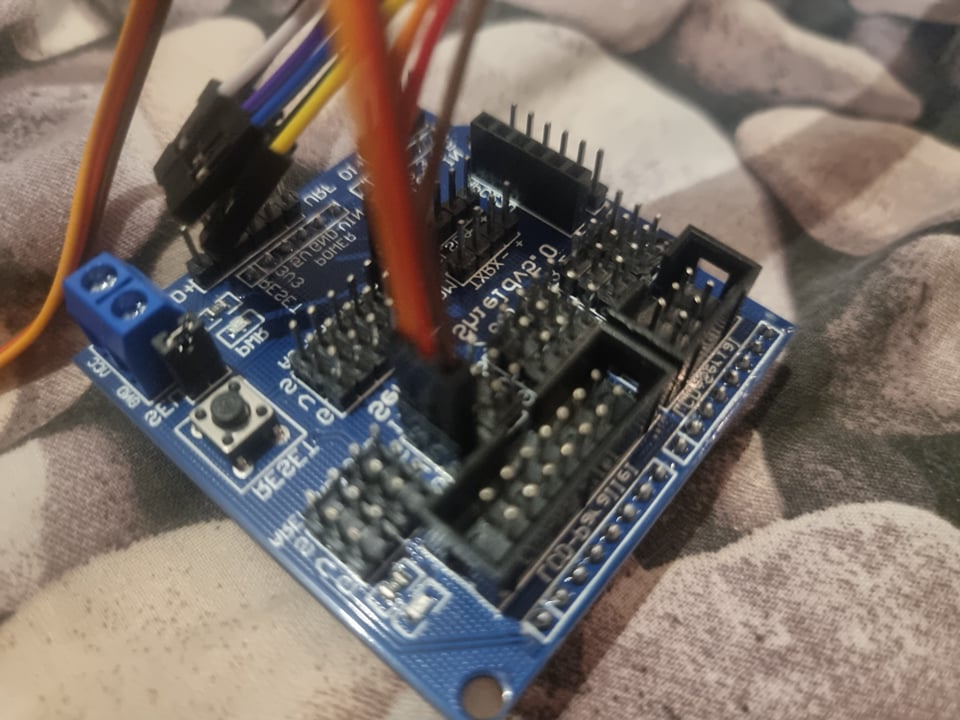5V EXPANSION: (67, 106, 796, 716)
